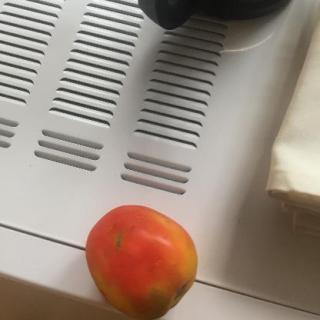Tomat: (70, 201, 213, 319)
